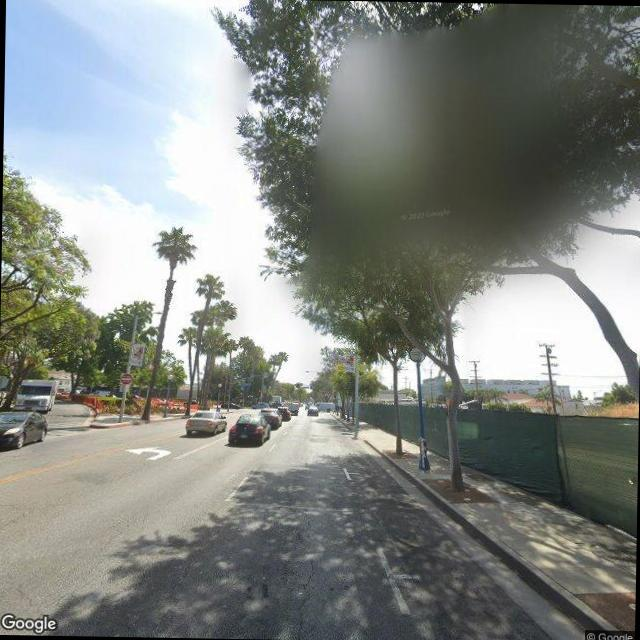crack: (286, 518, 320, 637)
